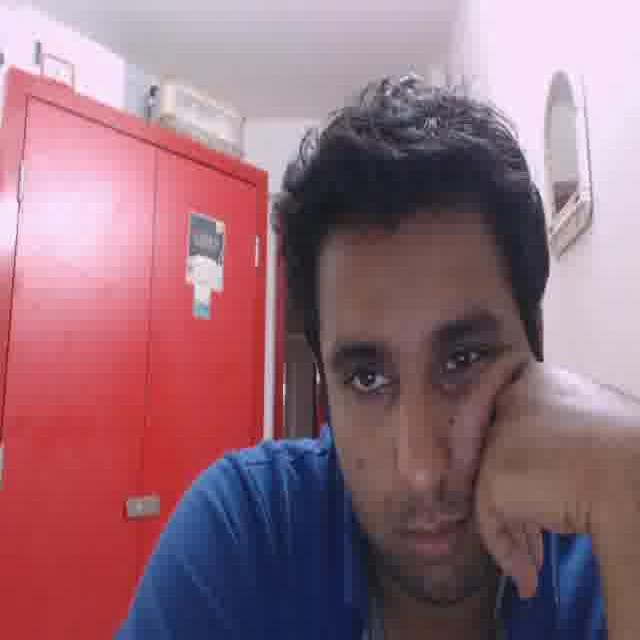Frustration: (317, 223, 533, 601)
